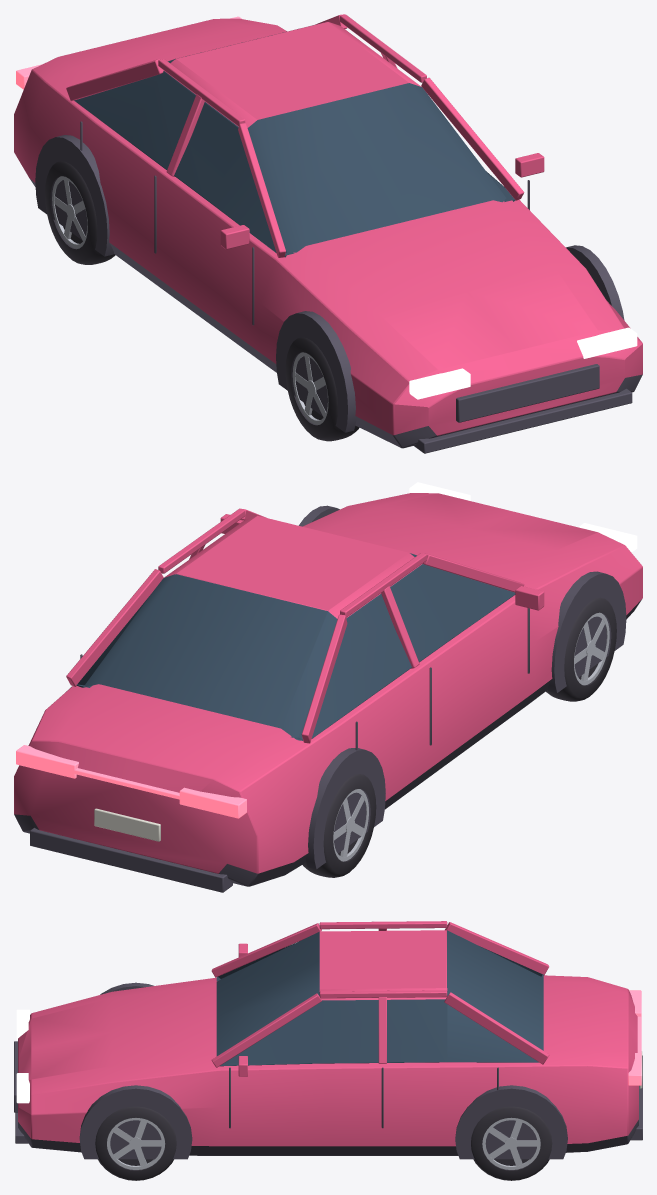
The model's file is car.glb.
The picture shows the model from 3 angles, top to bottom: view 1: azimuth 30°, elevation 25°; view 2: azimuth 150°, elevation 25°; view 3: azimuth 270°, elevation 25°; orthographic projection. The views are drawn at different scales.
Visible parts, largest first — view 1: car; view 2: car; view 3: car.
Boxes of the visible parts, bbox=[...] form: car: bbox=[14, 14, 642, 453]; car: bbox=[14, 482, 642, 892]; car: bbox=[14, 921, 642, 1180].
Size of the model in its own units: 2.14 by 1.43 by 4.69.
